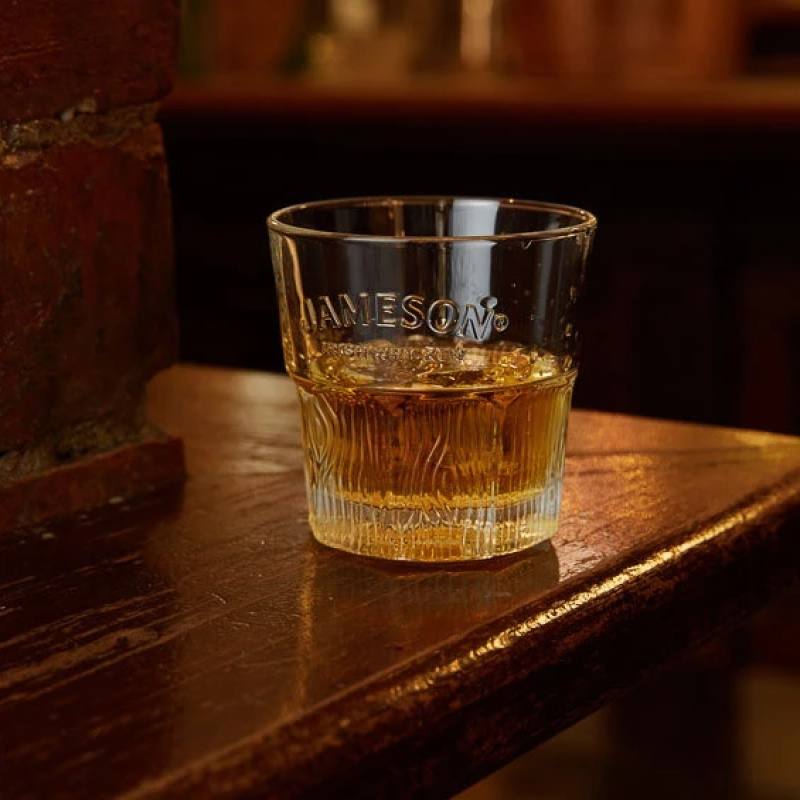whiskey: (277, 199, 602, 565)
